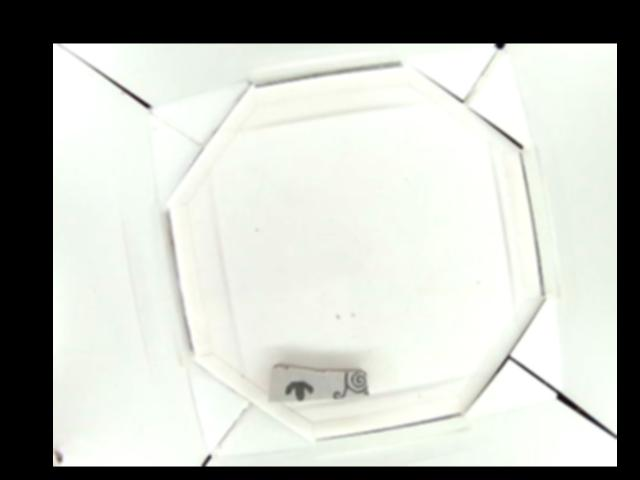China: (268, 364, 370, 401)
